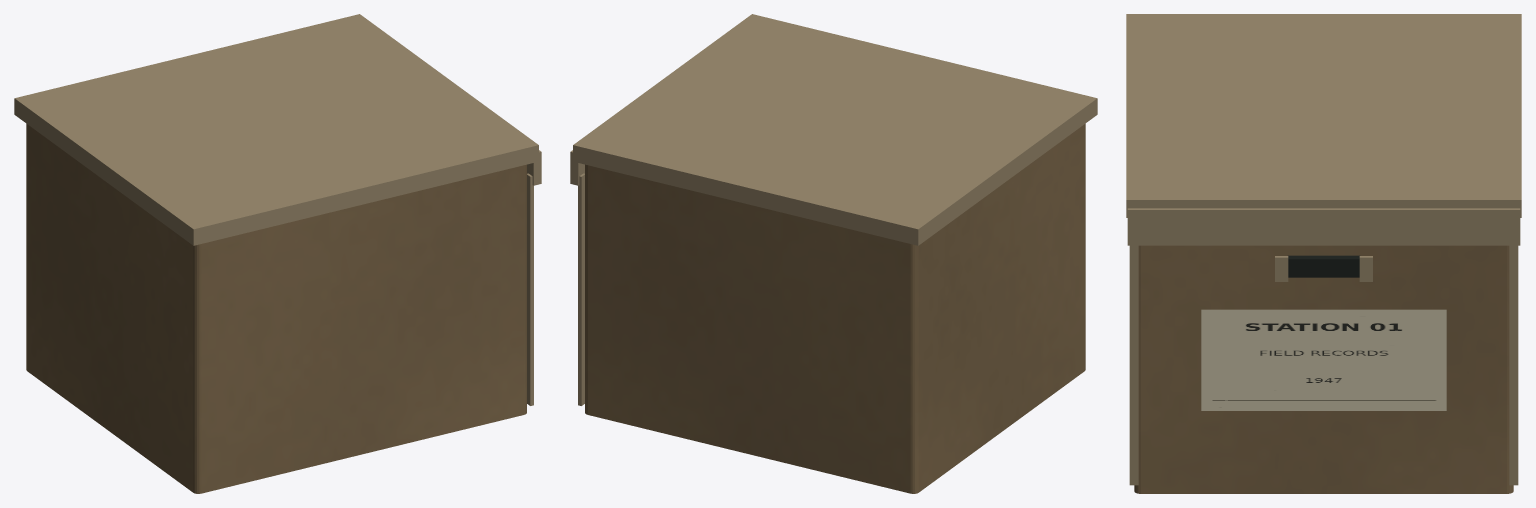
The model's file is SM_ArchiveProps_FieldBox.fbx.
3 views of the same model, side by side, from view 1: azimuth 30°, elevation 25°; view 2: azimuth 150°, elevation 25°; view 3: azimuth 270°, elevation 25° (orthographic). The views are drawn at different scales.
Visible parts, largest first — view 1: SM_ArchiveProps_FieldBox; view 2: SM_ArchiveProps_FieldBox; view 3: SM_ArchiveProps_FieldBox.
Boxes of the visible parts, x1,y1,x2,y2 form: SM_ArchiveProps_FieldBox: (14,14,541,493); SM_ArchiveProps_FieldBox: (570,14,1097,493); SM_ArchiveProps_FieldBox: (1126,14,1521,493).
Size of the model in its own units: 0.401 by 0.354 by 0.294.
